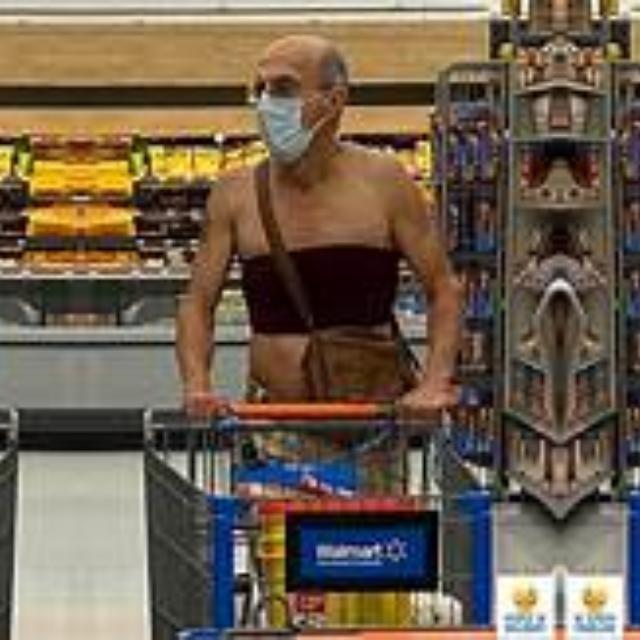person: (174, 8, 466, 452)
